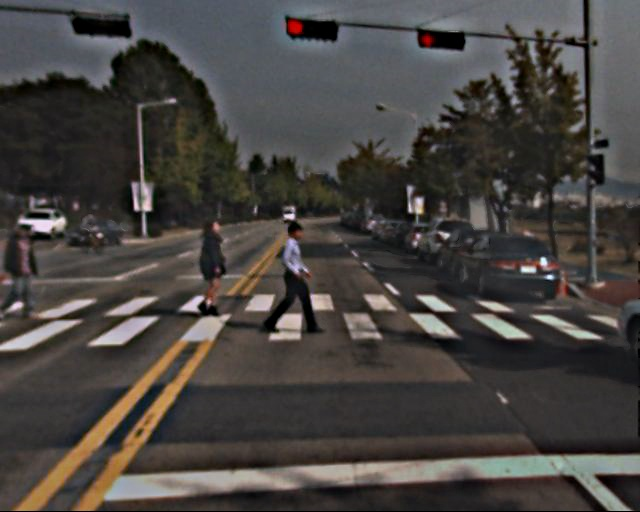person: (270, 220, 318, 335), (4, 215, 55, 316), (184, 216, 232, 317)
